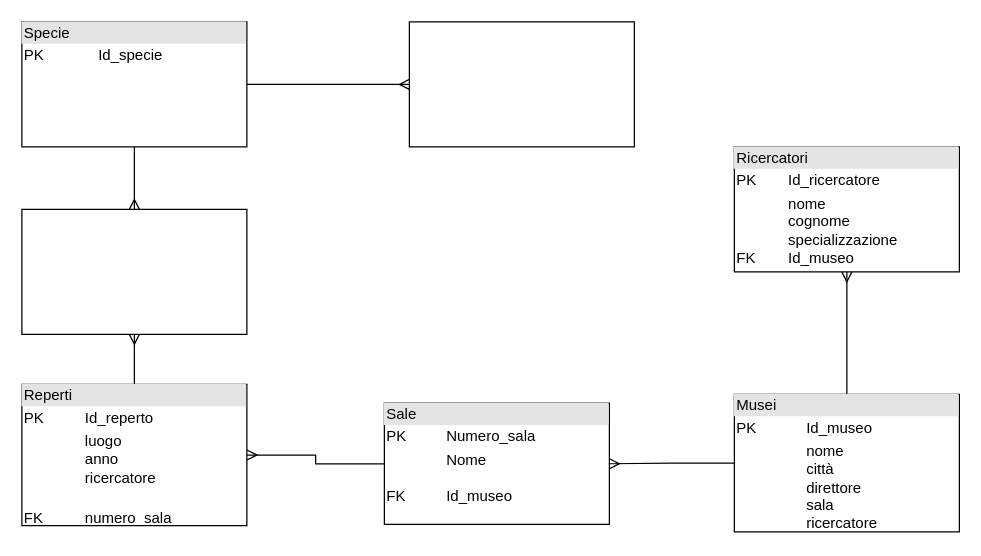
This 981x556 diagram has some shape labels left out. The centre of each missing label's shape, as x and y in pixels:
"Nomi PK Id_nome denominazione data" belongs at point 521,84.
"Reperti Specie PK Id_reperto_specie FK probabilità Id specie Id reperto" belongs at point 134,271.
